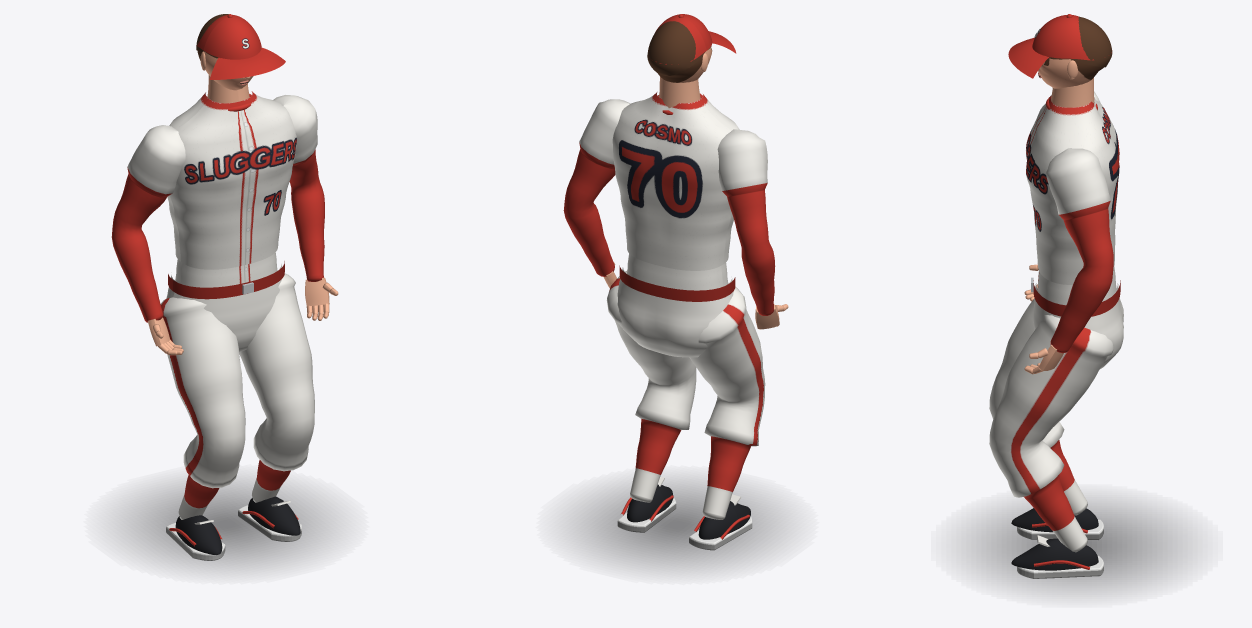
File: player_31_home.glb
The picture shows the model from 3 angles, left to right: view 1: azimuth 30°, elevation 25°; view 2: azimuth 150°, elevation 25°; view 3: azimuth 270°, elevation 25°; orthographic projection. The views are drawn at different scales.
Parts seen in each view (by area): view 1: player_31_home, object 30, object 32, object 2; view 2: player_31_home, object 29, object 2, object 30; view 3: player_31_home, object 30, object 29, object 34, object 32, object 2.
Boxes of the visible parts, box(x1,y1,x2,y2) form: player_31_home: box(111, 91, 334, 570); object 30: box(196, 14, 261, 59); object 32: box(209, 47, 285, 79); object 2: box(207, 75, 249, 103); player_31_home: box(563, 92, 785, 570); object 29: box(647, 21, 711, 76); object 2: box(659, 77, 700, 108); object 30: box(652, 14, 712, 64); player_31_home: box(966, 91, 1187, 592); object 30: box(1032, 14, 1112, 60); object 29: box(1049, 16, 1112, 67); object 34: box(1038, 58, 1103, 88); object 32: box(1008, 37, 1049, 78); object 2: box(1051, 77, 1094, 107).
Bounding box in the file's own units: 3.3 × 6.1 × 3.3.
27 materials, 5 textured.
